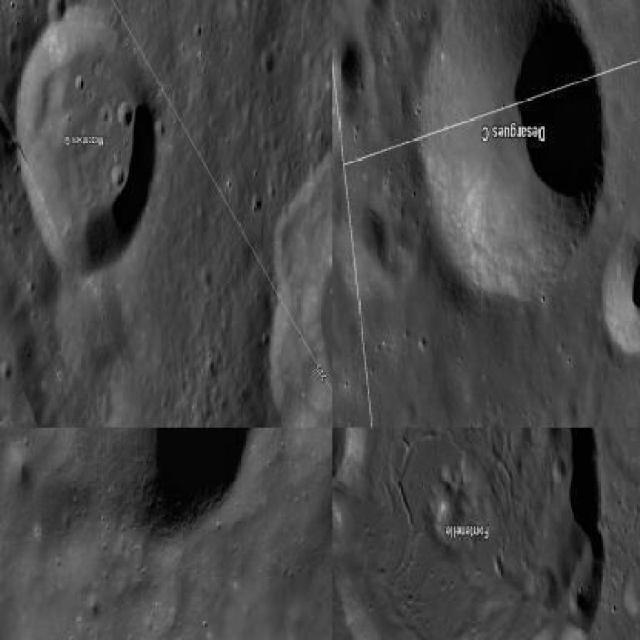crater: (332, 428, 605, 638), (412, 0, 605, 297), (17, 11, 157, 278), (15, 428, 260, 544), (268, 134, 330, 426), (597, 237, 638, 358), (332, 20, 371, 120), (46, 0, 66, 23)
